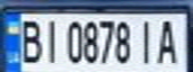0: (63, 16, 84, 65)
7: (97, 17, 118, 65)
8: (112, 17, 136, 65), (81, 17, 100, 65)
A: (151, 16, 184, 65)
B: (15, 16, 45, 65)
I: (133, 16, 160, 65), (39, 16, 60, 64)
